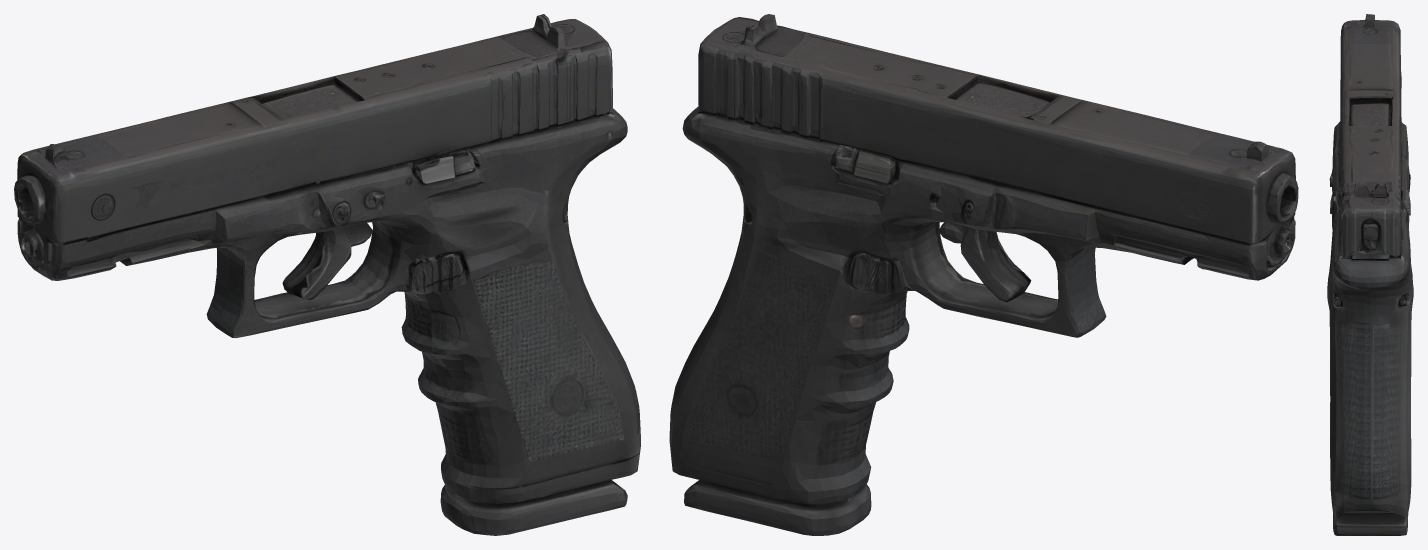
File: glock_17.fbx
3 views of the same model, side by side, from view 1: azimuth 30°, elevation 25°; view 2: azimuth 150°, elevation 25°; view 3: azimuth 270°, elevation 25° (orthographic). The views are drawn at different scales.
Parts seen in each view (by area): view 1: temp; view 2: temp; view 3: temp.
Boxes of the visible parts, x1,y1,x2,y2 form: temp: [14, 14, 640, 535]; temp: [669, 14, 1298, 535]; temp: [1327, 14, 1413, 535].
Size of the model in its own units: 200 by 150 by 35.02.
1 material, 1 textured.
